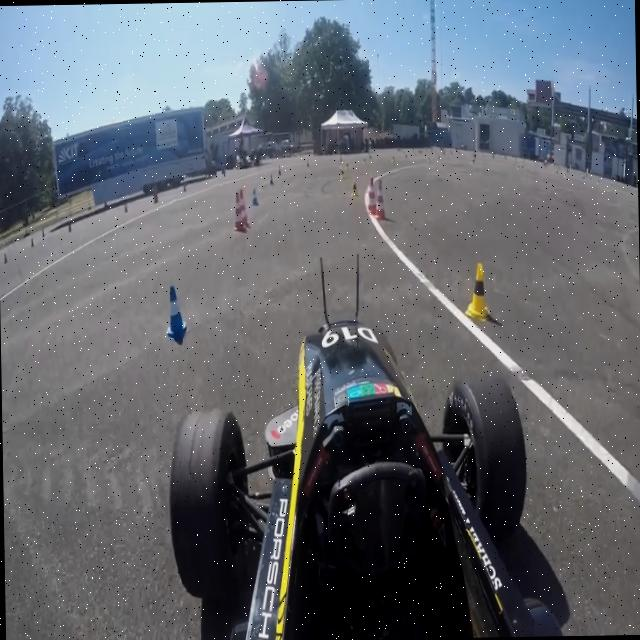blue_cone: (165, 282, 187, 340), (252, 187, 258, 206)
large_orange_cone: (374, 178, 386, 219), (232, 190, 244, 230), (238, 188, 248, 226), (367, 176, 377, 214)
yellow_cone: (464, 262, 489, 322), (350, 180, 358, 197)
